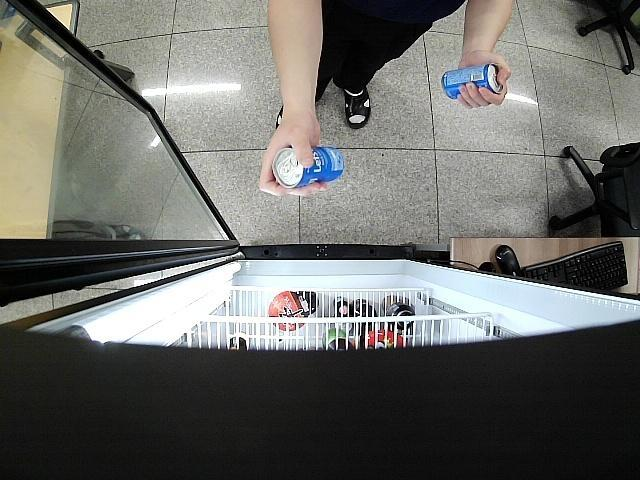15_letsbe: (271, 145, 345, 188), (442, 62, 501, 101)
